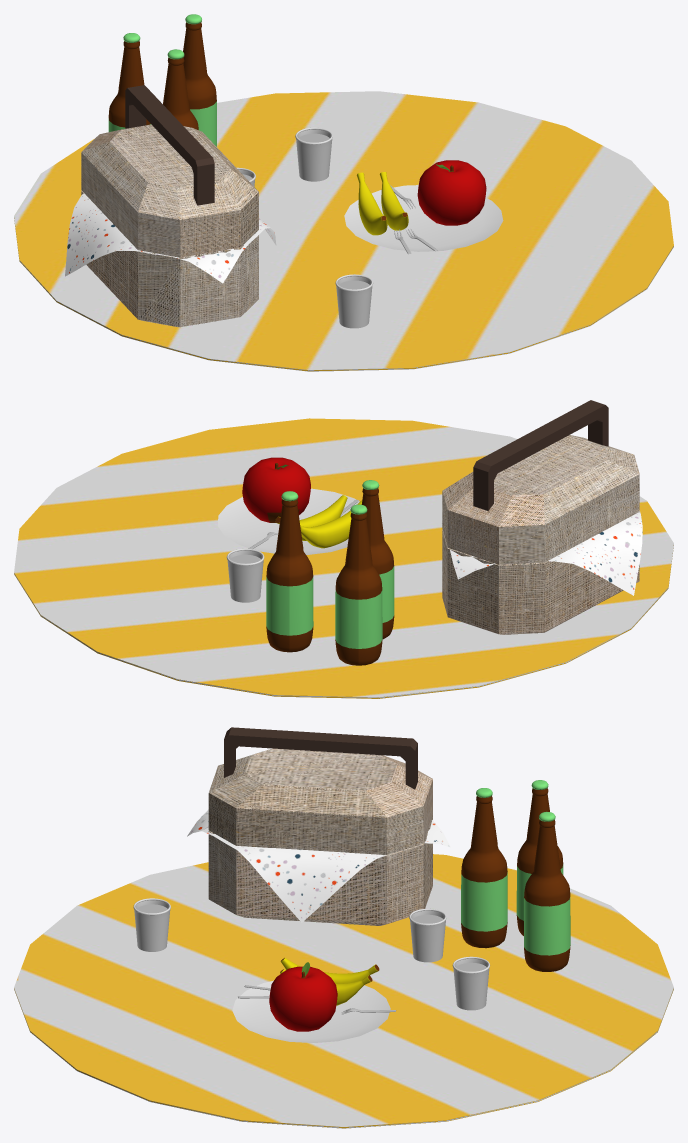
The picture shows the model from 3 angles, top to bottom: view 1: azimuth 30°, elevation 25°; view 2: azimuth 150°, elevation 25°; view 3: azimuth 270°, elevation 25°; orthographic projection.
Visible parts, largest first — view 1: polySurface205; view 2: polySurface205; view 3: polySurface205.
Boxes of the visible parts, bbox=[...] form: polySurface205: bbox=[14, 14, 673, 371]; polySurface205: bbox=[14, 400, 673, 698]; polySurface205: bbox=[14, 727, 673, 1128].
Size of the model in its own units: 0.4592 by 0.1252 by 0.4592.
Materials: 17 (4 with a texture image).
